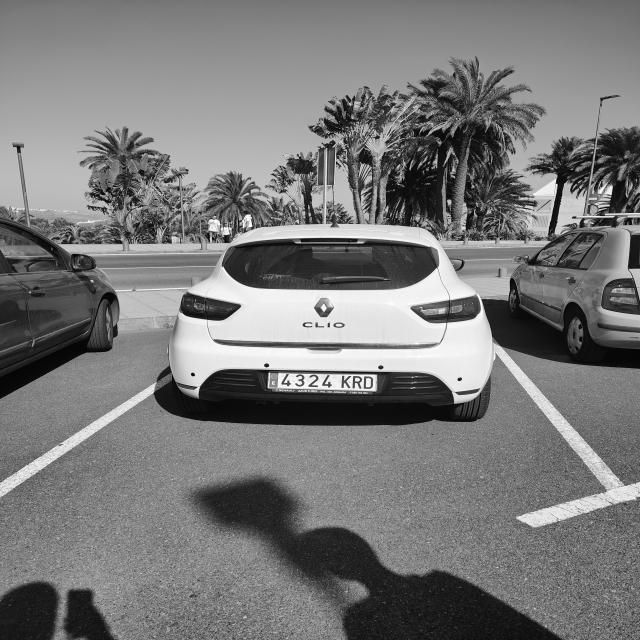License-Plate: (269, 371, 377, 392)
